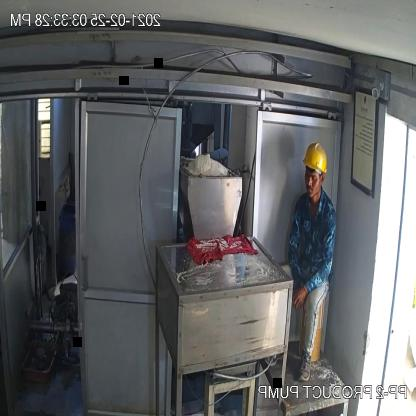helmet: (298, 137, 329, 186)
